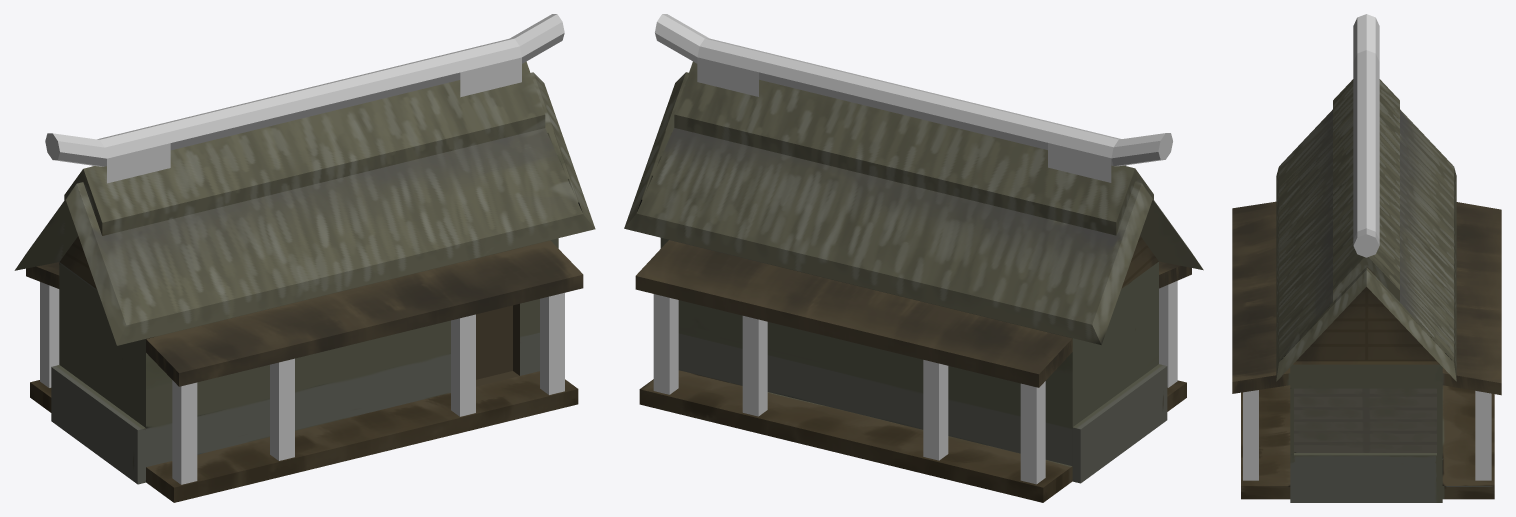
Rendered from casa3 (1).fbx.
3 renders of one model, left to right at view 1: azimuth 30°, elevation 25°; view 2: azimuth 150°, elevation 25°; view 3: azimuth 270°, elevation 25°, orthographic. The views are drawn at different scales.
Parts seen in each view (by area): view 1: Cube, Cylinder, Cube.003; view 2: Cube, Cylinder, Cube.003; view 3: Cube, Cylinder, Cube.003.
Boxes of the visible parts, left/top/right/bottom form: Cube: left=14, top=61, right=595, bottom=502; Cylinder: left=45, top=14, right=564, bottom=183; Cube.003: left=40, top=282, right=564, bottom=484; Cube: left=624, top=61, right=1203, bottom=502; Cylinder: left=655, top=14, right=1172, bottom=182; Cube.003: left=653, top=281, right=1177, bottom=484; Cube: left=1232, top=79, right=1501, bottom=502; Cylinder: left=1353, top=14, right=1379, bottom=257; Cube.003: left=1243, top=390, right=1491, bottom=480.
Size of the model in its own units: 673 by 420 by 353.
